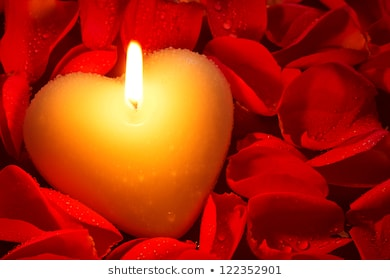Fire: (119, 42, 146, 107)
